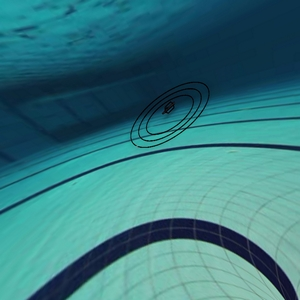submarine: (159, 99, 178, 116)
